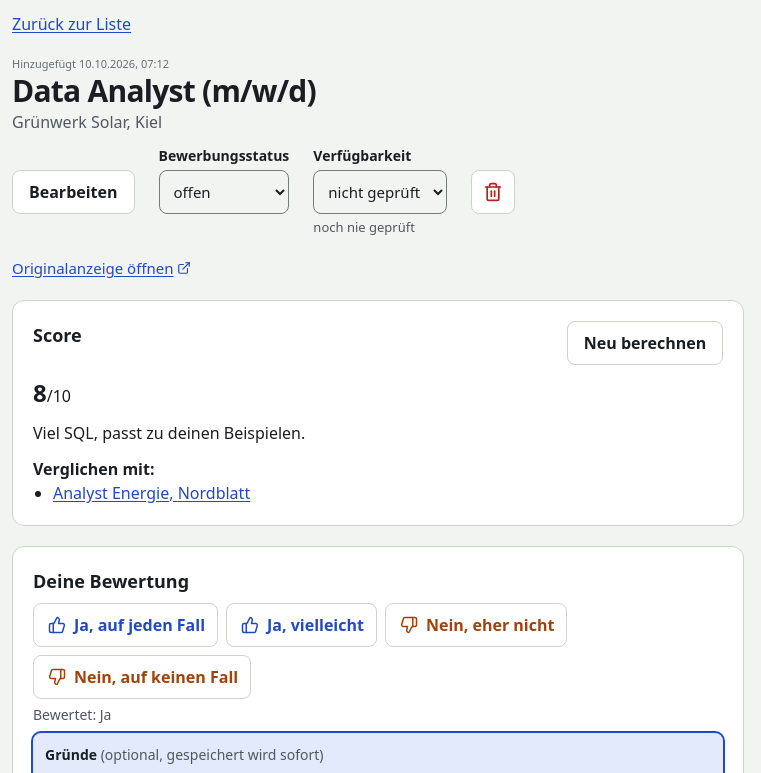
a failed status change shows an error, keeps the old status and retries
Step 1. Select "erledigt" in the dropdown labelled "Bewerbungsstatus" → (224, 192), box x1=158 y1=170 x2=289 y2=214
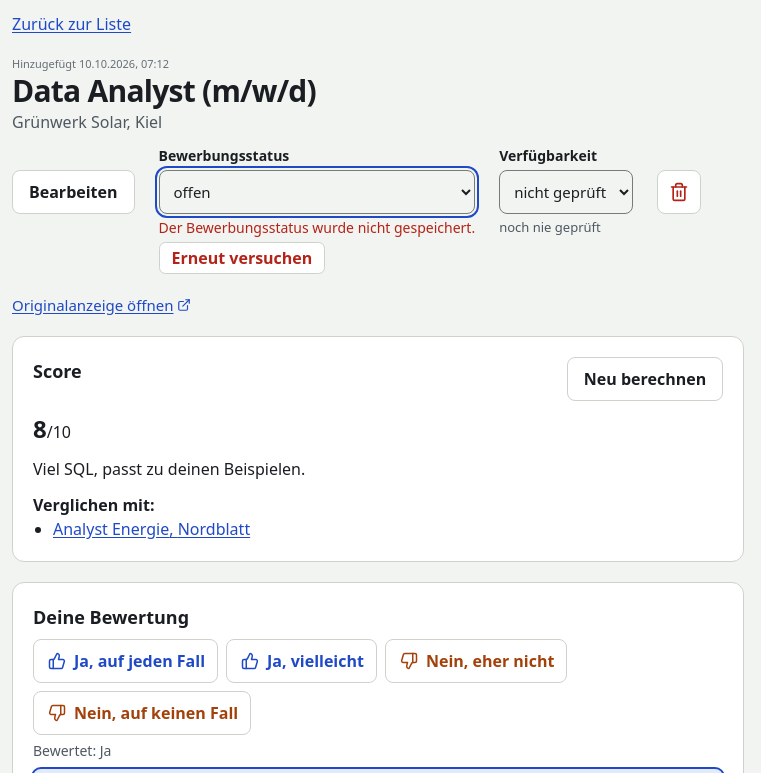
Expected: the text "Der Bewerbungsstatus wurde nicht gespeichert." is shown, x1=158 y1=218 x2=475 y2=236
Step 2. Click the button "Erneut versuchen" → click(242, 258), box x1=158 y1=242 x2=325 y2=274
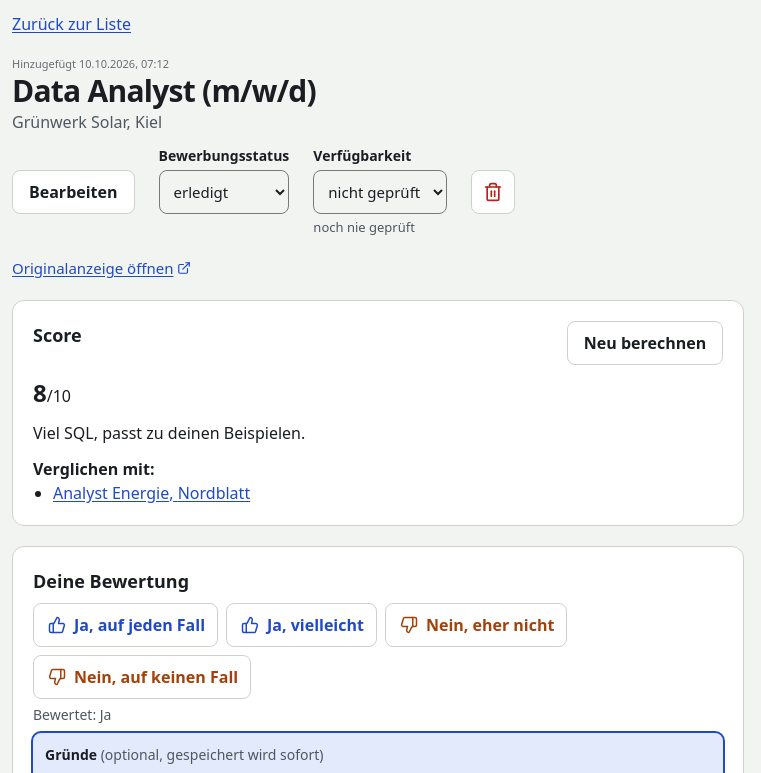
Expected: the text "Der Bewerbungsstatus wurde nicht gespeichert." is gone
